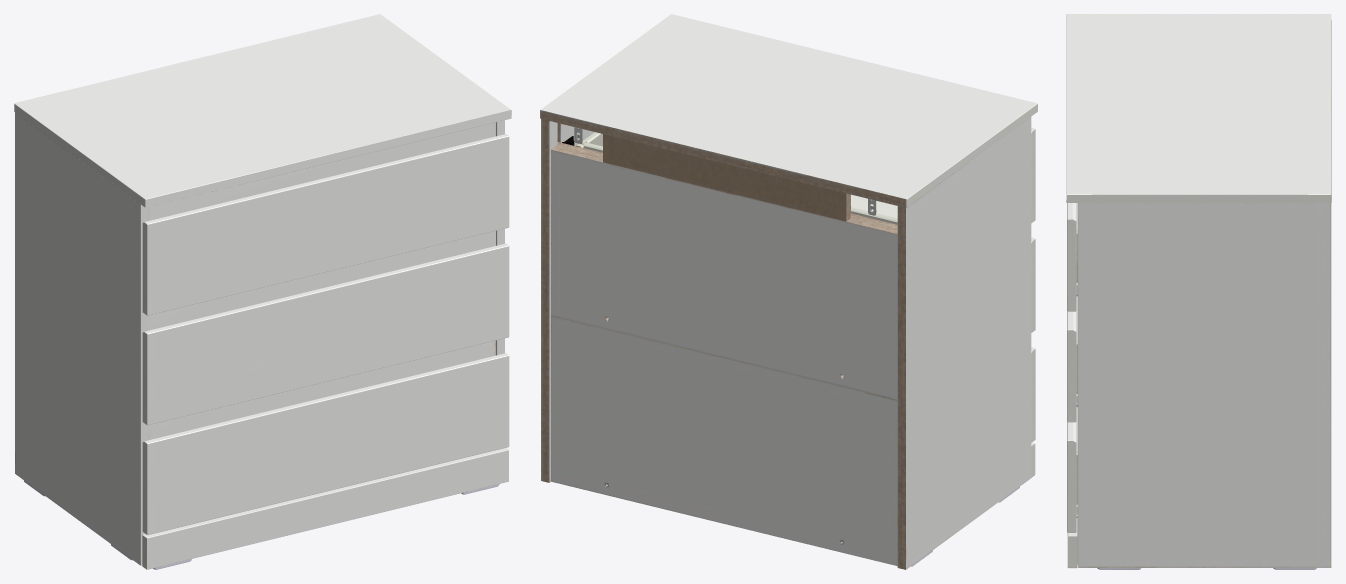
Rendered from lillberget_komoda_3_szuflady_80630477.glb.
3 views of the same model, side by side, from view 1: azimuth 30°, elevation 25°; view 2: azimuth 150°, elevation 25°; view 3: azimuth 270°, elevation 25° (orthographic).
Visible parts, largest first — view 1: lillberget_komoda_3_szuflady_80630477; view 2: lillberget_komoda_3_szuflady_80630477; view 3: lillberget_komoda_3_szuflady_80630477.
Part boxes in pixels (x1,y1,x2,y2): lillberget_komoda_3_szuflady_80630477: [14, 14, 511, 569]; lillberget_komoda_3_szuflady_80630477: [540, 14, 1037, 569]; lillberget_komoda_3_szuflady_80630477: [1066, 14, 1331, 569].
Size of the model in its own units: 0.7 by 0.683 by 0.4341.
Materials: 1 (1 with a texture image).
